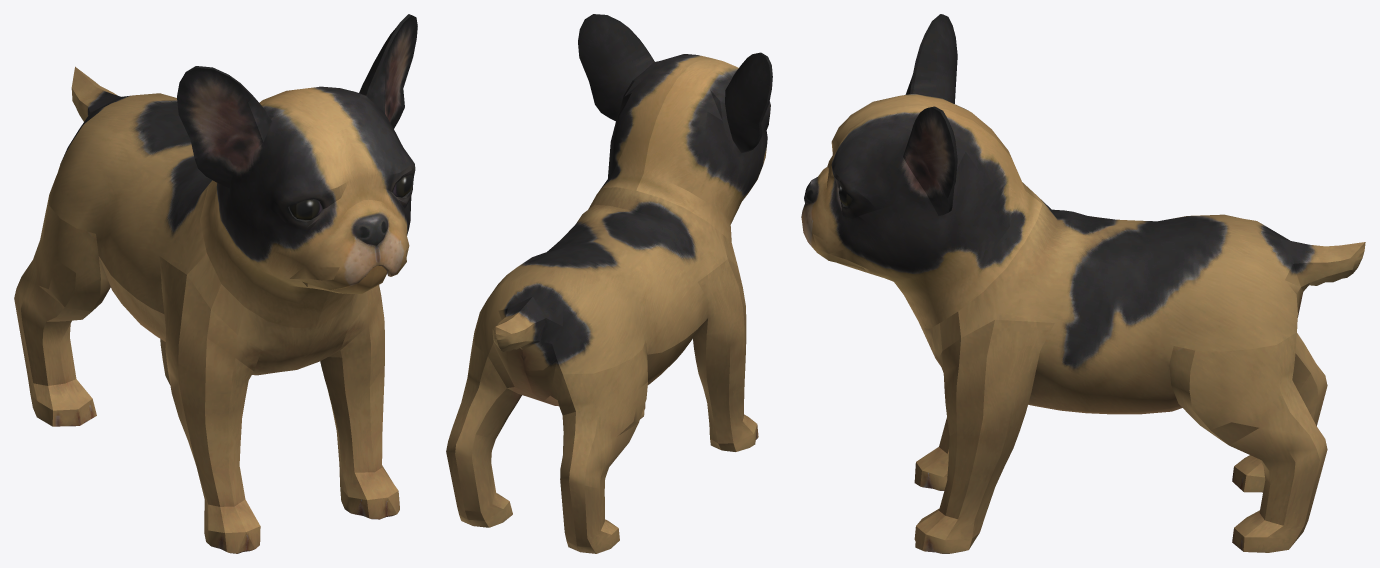
3 views of the same model, side by side, from view 1: azimuth 30°, elevation 25°; view 2: azimuth 150°, elevation 25°; view 3: azimuth 270°, elevation 25° (orthographic). The views are drawn at different scales.
Parts seen in each view (by area): view 1: TopN; view 2: TopN; view 3: TopN.
Part boxes in pixels (bbox=[...]): TopN: bbox=[14, 14, 417, 553]; TopN: bbox=[446, 14, 772, 553]; TopN: bbox=[801, 14, 1365, 553].
Size of the model in its own units: 6.35 by 12.39 by 13.92.
1 material, 1 textured.
